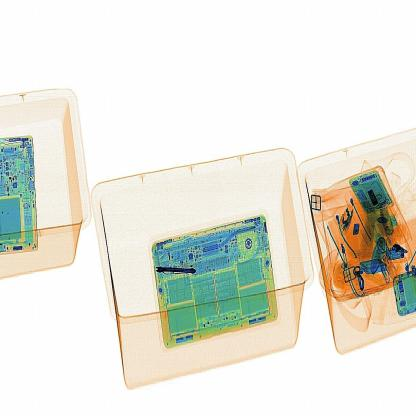knife: (145, 261, 206, 286)
